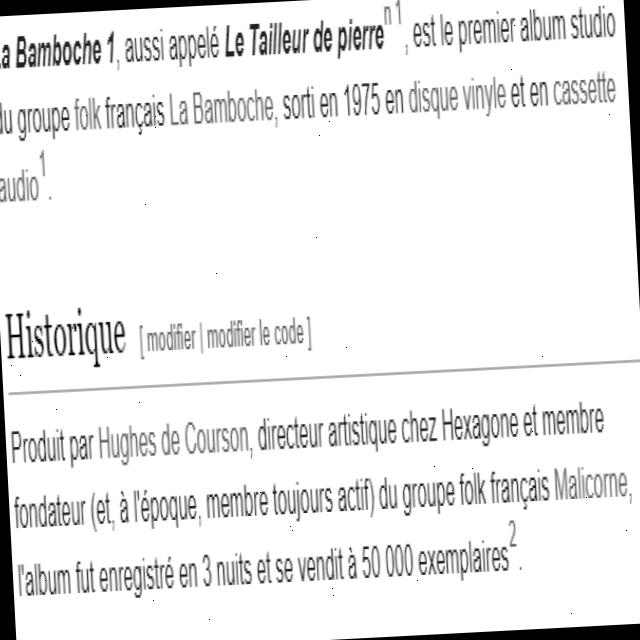word: (3, 297, 131, 386), (204, 308, 315, 361), (191, 80, 280, 139), (439, 397, 524, 455), (550, 458, 637, 514), (15, 25, 105, 76), (136, 311, 207, 373), (325, 401, 401, 458), (95, 414, 160, 479), (130, 481, 208, 535), (182, 413, 257, 469), (11, 486, 89, 539), (96, 554, 180, 603), (416, 539, 510, 582), (202, 477, 272, 534), (255, 408, 328, 459), (267, 476, 337, 529), (487, 461, 553, 515), (457, 7, 521, 62), (102, 91, 168, 144), (538, 399, 610, 447), (246, 15, 313, 66), (551, 71, 622, 118), (10, 419, 69, 475), (405, 73, 463, 128), (399, 470, 459, 523), (15, 555, 76, 606), (17, 99, 73, 149), (566, 0, 621, 48), (460, 72, 510, 124), (167, 25, 225, 69), (0, 161, 42, 221), (336, 13, 386, 63), (518, 6, 572, 52), (333, 474, 377, 526), (296, 547, 348, 591), (398, 402, 440, 451), (123, 29, 169, 72), (341, 76, 383, 123), (213, 553, 254, 599), (281, 82, 320, 128), (71, 92, 106, 143), (67, 421, 97, 476), (455, 468, 490, 515), (381, 536, 415, 584), (166, 86, 194, 138), (376, 469, 404, 520), (88, 488, 119, 534), (311, 17, 339, 67), (411, 14, 440, 61), (221, 17, 248, 67), (174, 552, 203, 598), (316, 80, 341, 133), (508, 66, 531, 122), (73, 553, 100, 600), (358, 539, 384, 587), (157, 417, 184, 463), (529, 71, 553, 121), (519, 401, 544, 449), (435, 5, 457, 58), (382, 80, 409, 123), (104, 23, 124, 77), (272, 552, 297, 592), (115, 491, 135, 538), (254, 549, 273, 593), (345, 540, 361, 591), (199, 549, 216, 594), (0, 97, 14, 144), (0, 30, 12, 76)
